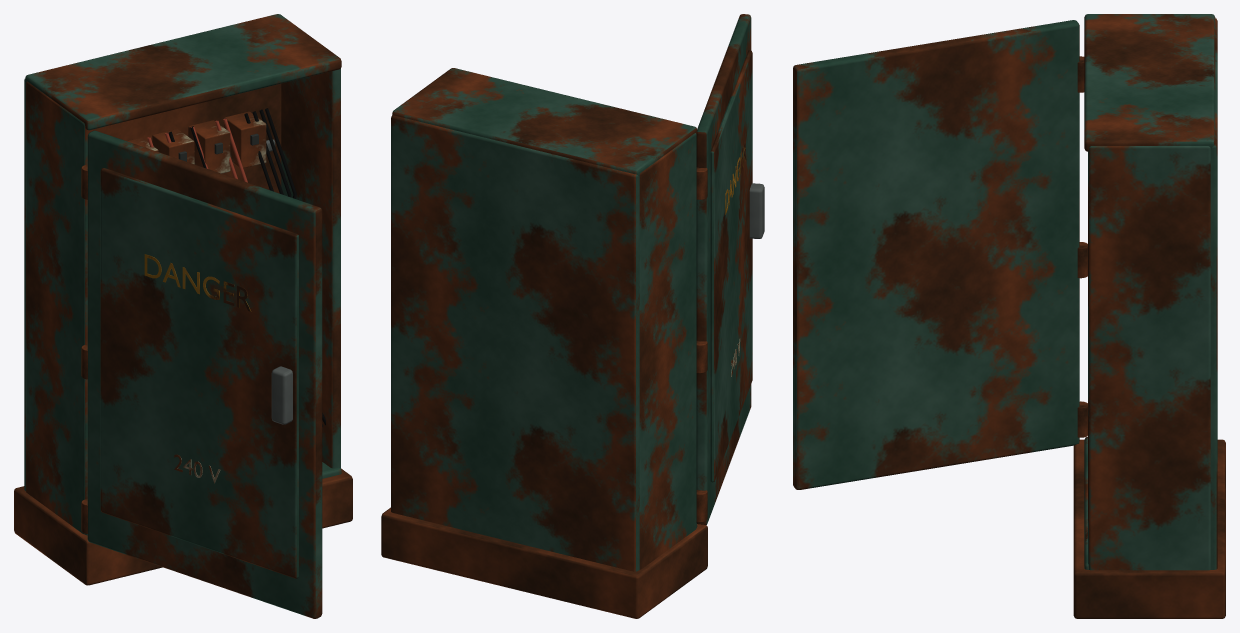
Rendered from control_cabinet.glb.
The picture shows the model from 3 angles, left to right: view 1: azimuth 30°, elevation 25°; view 2: azimuth 150°, elevation 25°; view 3: azimuth 270°, elevation 25°; orthographic projection. The views are drawn at different scales.
Visible parts, largest first — view 1: Door inset, Open cabinet door, Cabinet side, Cabinet cap.001, Cabinet side.001, Cabinet plinth, Internal mounting plate, Cracked relay.014, Cracked relay.013, Door latch, Warning on door, Cracked relay.012 (+1 smaller); view 2: Rear sheet, Cabinet side, Cabinet cap.001, Cabinet plinth, Door inset, Open cabinet door, Door latch; view 3: Open cabinet door, Cabinet side.001, Cabinet cap.001, Cabinet plinth, Rear sheet.
Part boxes in pixels (left/top/right/bottom): Door inset: left=100, top=168, right=298, bottom=578; Open cabinet door: left=87, top=130, right=322, bottom=618; Cabinet side: left=26, top=81, right=93, bottom=534; Cabinet cap.001: left=25, top=14, right=341, bottom=130; Cabinet side.001: left=281, top=68, right=340, bottom=468; Cabinet plinth: left=14, top=468, right=352, bottom=585; Internal mounting plate: left=93, top=83, right=281, bottom=193; Cracked relay.014: left=224, top=111, right=266, bottom=168; Cracked relay.013: left=188, top=120, right=230, bottom=173; Door latch: left=271, top=366, right=292, bottom=424; Warning on door: left=144, top=254, right=251, bottom=311; Cracked relay.012: left=152, top=129, right=194, bottom=164; Rear sheet: left=391, top=115, right=639, bottom=571; Cabinet side: left=639, top=133, right=696, bottom=569; Cabinet cap.001: left=392, top=68, right=697, bottom=175; Cabinet plinth: left=381, top=507, right=707, bottom=618; Door inset: left=710, top=50, right=752, bottom=482; Open cabinet door: left=696, top=14, right=751, bottom=524; Door latch: left=749, top=183, right=764, bottom=238; Open cabinet door: left=793, top=20, right=1079, bottom=489; Cabinet side.001: left=1088, top=146, right=1210, bottom=570; Cabinet cap.001: left=1084, top=14, right=1215, bottom=151; Cabinet plinth: left=1073, top=439, right=1225, bottom=618; Rear sheet: left=1210, top=18, right=1217, bottom=569.
Bounding box in the file's own units: 1.34 × 2.21 × 1.82.
Materials: 8 (6 with a texture image).
